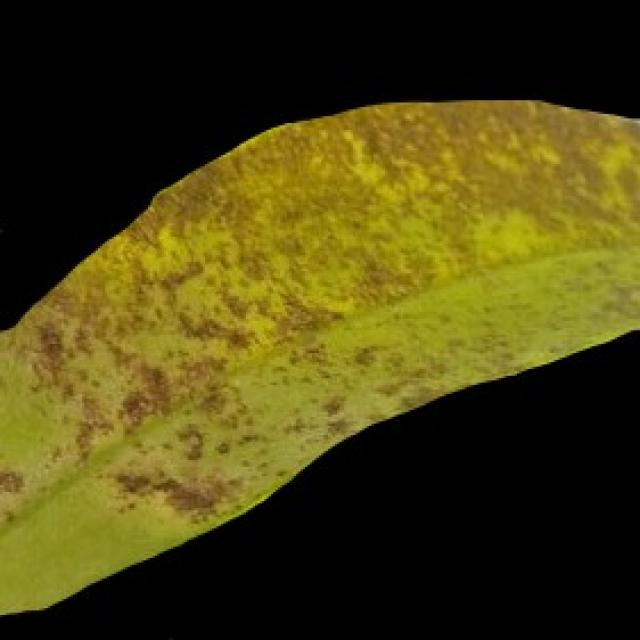mite: (0, 194, 52, 333), (0, 360, 27, 542), (0, 194, 25, 333), (159, 478, 219, 522), (0, 203, 7, 333), (0, 214, 7, 241)
